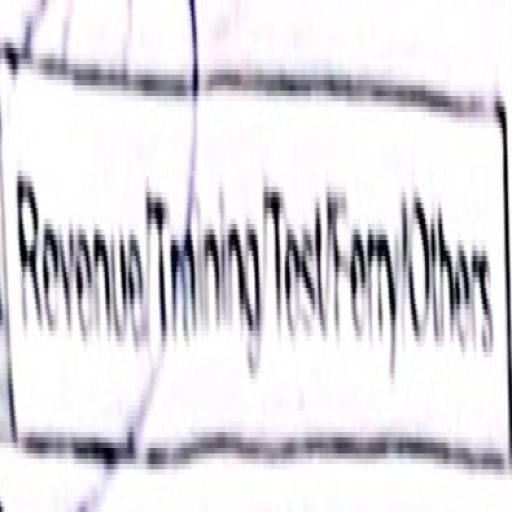check: (1, 0, 149, 512)
